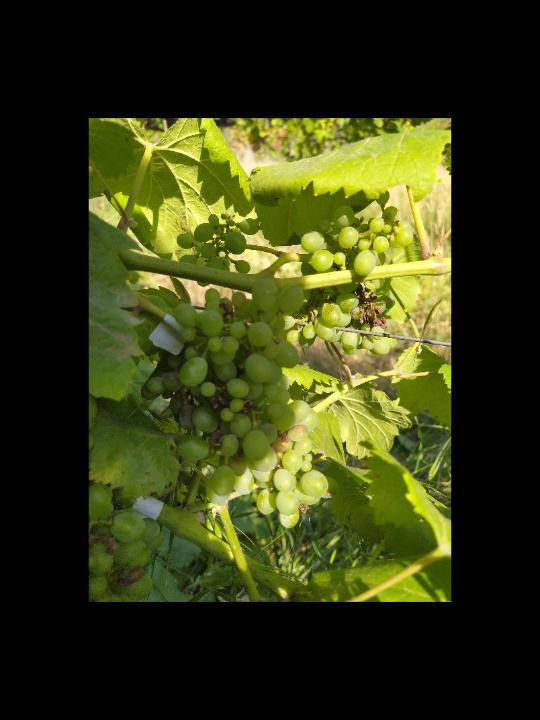grape: (140, 277, 332, 532), (300, 188, 414, 357), (175, 211, 259, 289)
